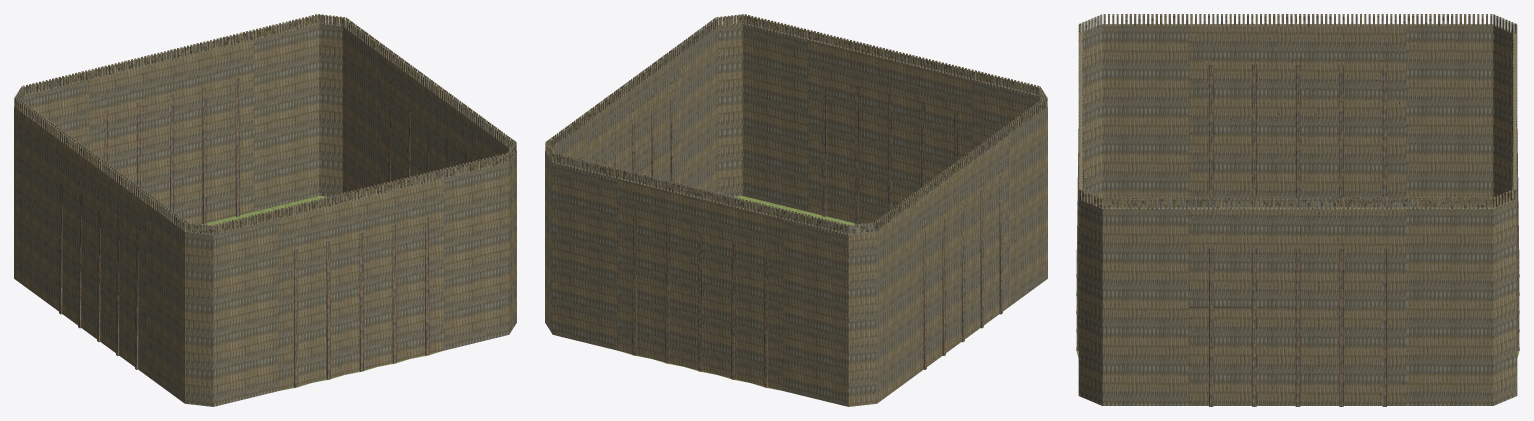
Rendered from map50Field1_Mini_Mini.fbx.
3 views of the same model, side by side, from view 1: azimuth 30°, elevation 25°; view 2: azimuth 150°, elevation 25°; view 3: azimuth 270°, elevation 25° (orthographic). The views are drawn at different scales.
Parts seen in each view (by area): view 1: map50F_Layer2, map50F_Layer3, map50F_Layer4, map50F_Layer1; view 2: map50F_Layer2, map50F_Layer3, map50F_Layer4, map50F_Layer1; view 3: map50F_Layer2, map50F_Layer4, map50F_Layer3.
Boxes of the visible parts, bbox=[...] form: map50F_Layer2: bbox=[14, 23, 516, 406]; map50F_Layer3: bbox=[14, 14, 516, 234]; map50F_Layer4: bbox=[59, 78, 466, 387]; map50F_Layer1: bbox=[191, 196, 438, 390]; map50F_Layer2: bbox=[545, 23, 1047, 406]; map50F_Layer3: bbox=[545, 14, 1047, 234]; map50F_Layer4: bbox=[595, 78, 1002, 387]; map50F_Layer1: bbox=[623, 196, 874, 390]; map50F_Layer2: bbox=[1078, 24, 1517, 405]; map50F_Layer4: bbox=[1076, 65, 1519, 406]; map50F_Layer3: bbox=[1078, 14, 1517, 209].
Bounding box in the file's own units: 20.4 × 11.17 × 20.4.
4 materials, 4 textured.
